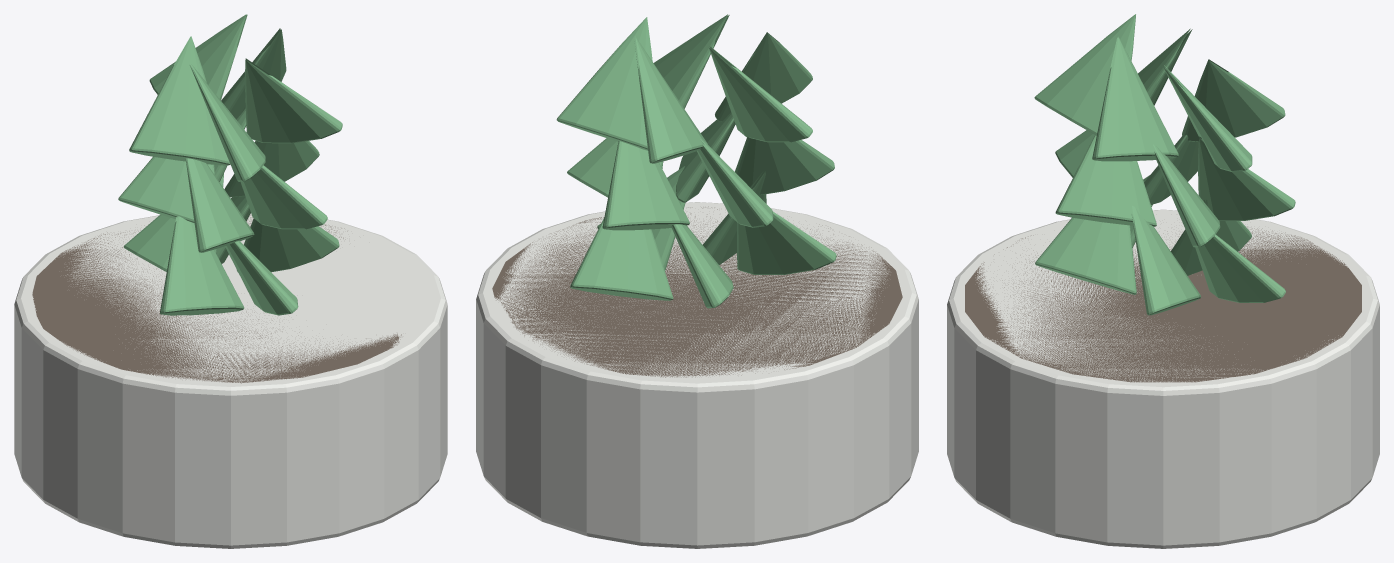
File: modern_office_asset_library_board_23.glb
3 views of the same model, side by side, from view 1: azimuth 30°, elevation 25°; view 2: azimuth 150°, elevation 25°; view 3: azimuth 270°, elevation 25° (orthographic). The views are drawn at different scales.
Visible parts, largest first — view 1: Cylinder; view 2: Cylinder; view 3: Cylinder.
Part boxes in pixels (x1,y1,x2,y2): Cylinder: (14,14,447,548); Cylinder: (476,14,918,548); Cylinder: (947,14,1379,548).
Size of the model in its own units: 0.9232 by 0.9875 by 0.9232.
